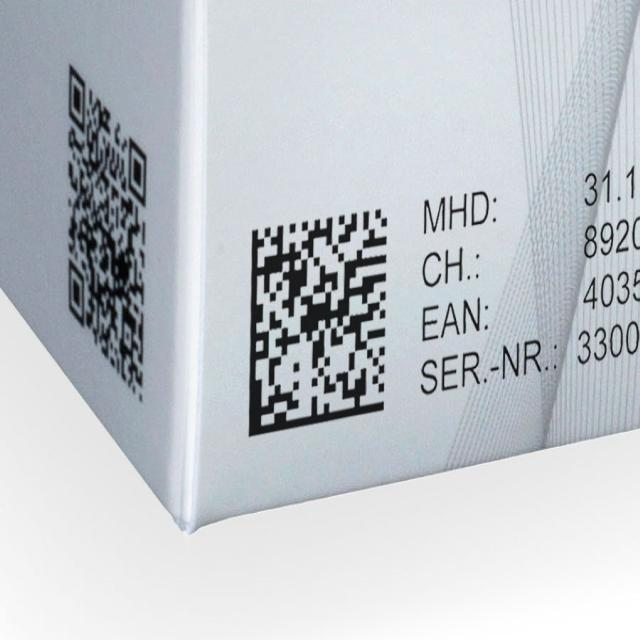datamatrix: (241, 198, 392, 438)
